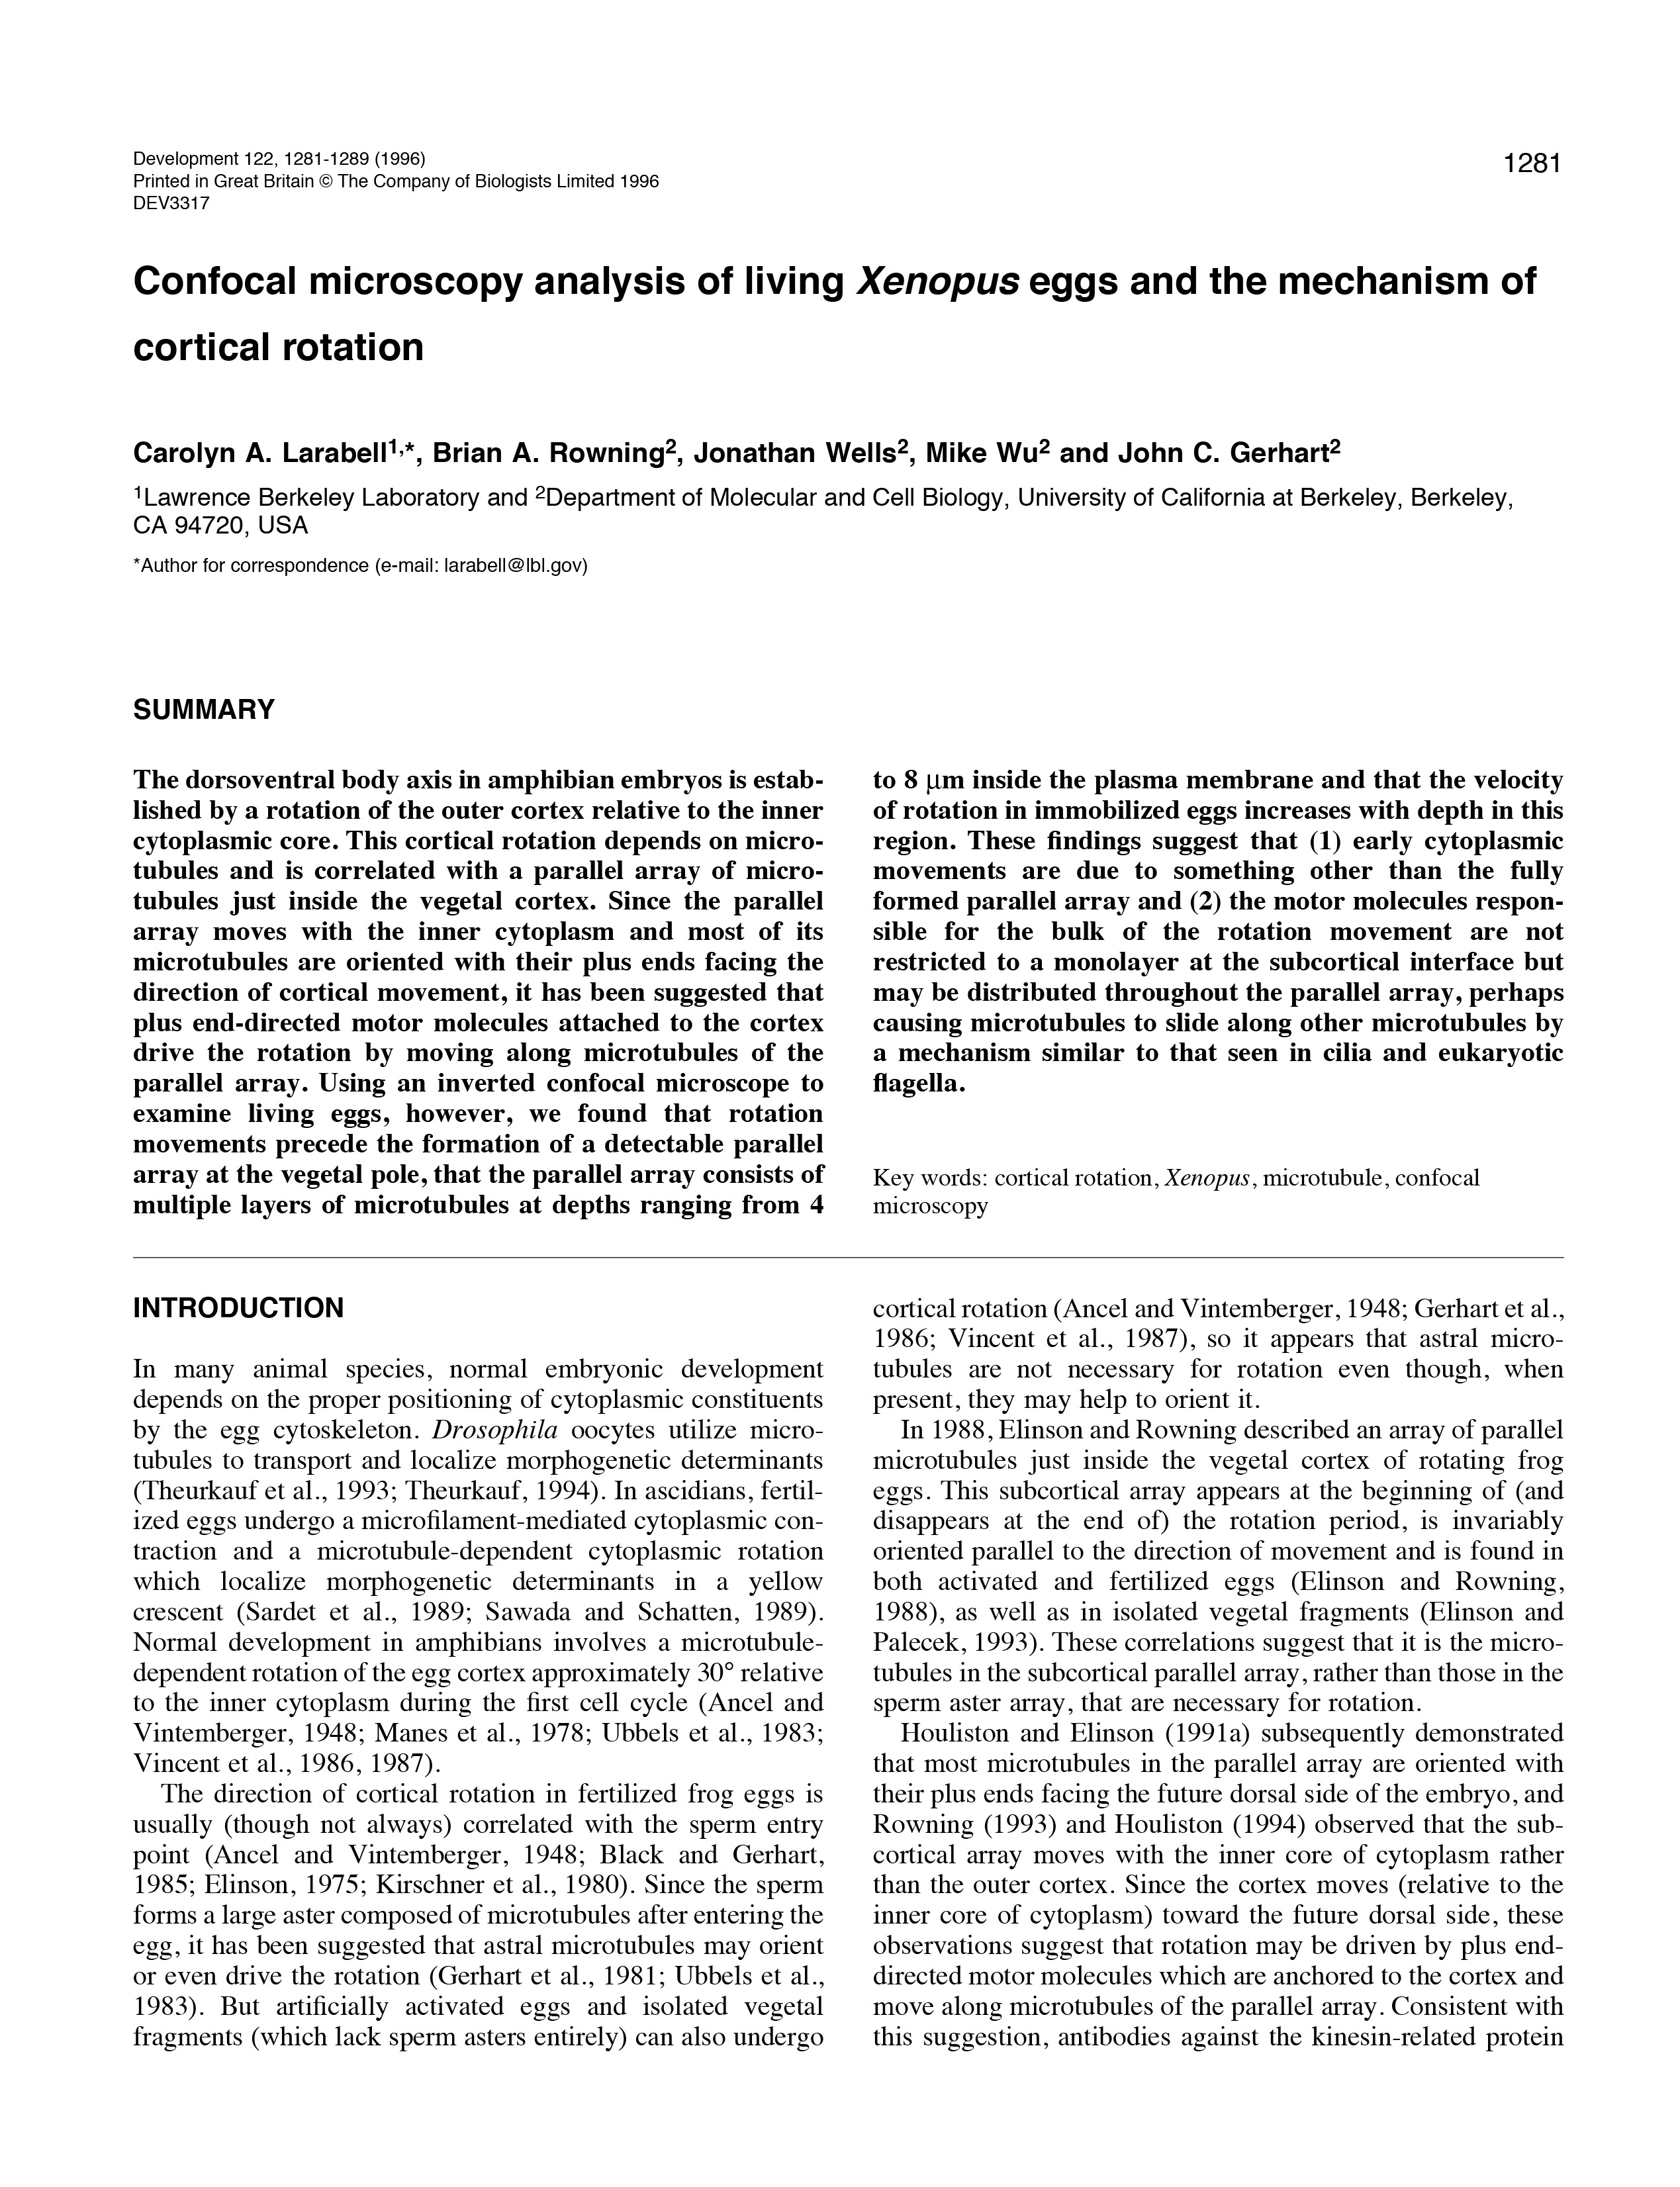section: (132, 267, 1541, 371), (120, 434, 1354, 473), (113, 1264, 356, 1331), (124, 687, 293, 734)
text: (874, 1287, 1553, 2055), (124, 777, 817, 1223), (141, 1354, 814, 1770), (866, 757, 1571, 1087), (124, 1786, 824, 2067), (109, 480, 1514, 593), (866, 1147, 1507, 1227)
